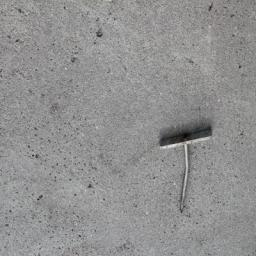FOD: (159, 127, 216, 216)
